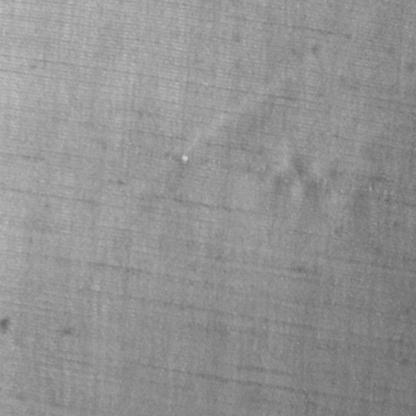hole: (180, 152, 189, 164)
